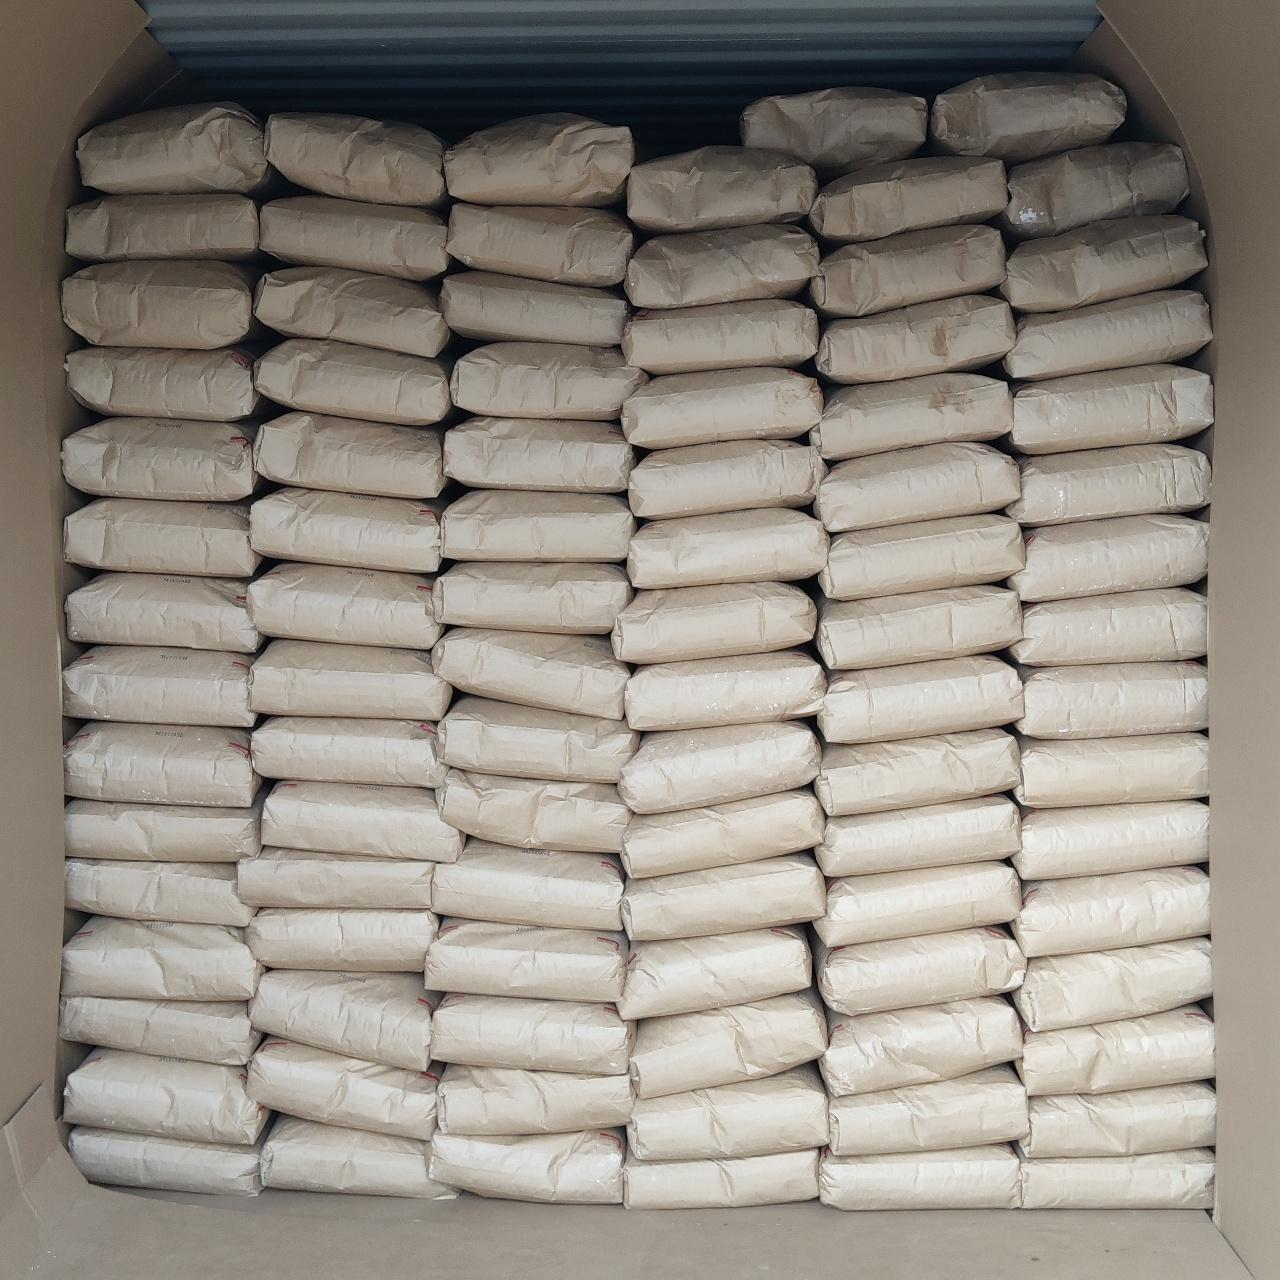sack: (629, 989, 826, 1098), (1000, 216, 1207, 312), (821, 998, 1021, 1095), (247, 1037, 437, 1139), (627, 1064, 828, 1160), (66, 1049, 268, 1144), (248, 969, 437, 1070), (617, 721, 821, 813), (815, 442, 1020, 533), (816, 927, 1026, 1016), (1012, 938, 1211, 1032), (998, 142, 1189, 239), (1005, 290, 1212, 379), (76, 102, 275, 195), (619, 789, 825, 878), (431, 627, 629, 719), (1010, 365, 1212, 454), (928, 73, 1126, 163), (617, 927, 811, 1019), (810, 225, 1005, 316), (812, 862, 1020, 947), (815, 295, 1014, 384), (828, 1065, 1027, 1155), (256, 266, 449, 358), (1016, 1006, 1214, 1095), (62, 260, 263, 348), (622, 853, 825, 940), (433, 837, 622, 930), (817, 656, 1022, 742), (815, 729, 1020, 815), (1012, 867, 1208, 956), (818, 515, 1024, 599), (445, 114, 635, 205), (425, 917, 628, 1002), (1009, 515, 1208, 601), (810, 374, 1012, 459), (256, 338, 451, 425), (809, 157, 1007, 243), (740, 87, 927, 177), (815, 586, 1021, 668), (440, 696, 640, 781), (253, 411, 445, 498), (247, 564, 442, 649), (266, 113, 443, 206), (815, 796, 1020, 877), (61, 917, 260, 1000), (64, 722, 260, 806), (430, 994, 634, 1075), (612, 583, 816, 663), (1006, 445, 1210, 526), (62, 418, 263, 501), (627, 147, 818, 232), (627, 508, 829, 588), (621, 367, 823, 448), (624, 224, 819, 307), (248, 640, 452, 720), (625, 651, 828, 730), (251, 488, 442, 572), (261, 1116, 457, 1198), (260, 196, 450, 280), (261, 782, 459, 862), (437, 770, 629, 852), (63, 646, 258, 727), (447, 204, 635, 287), (450, 341, 648, 420), (628, 440, 826, 518), (1012, 801, 1208, 879), (64, 498, 260, 577), (66, 573, 260, 652), (66, 346, 265, 421), (621, 299, 818, 374), (1019, 1083, 1216, 1158), (1010, 588, 1207, 663), (445, 416, 635, 493), (1017, 662, 1207, 740), (425, 1129, 624, 1201), (1014, 733, 1208, 806), (440, 271, 629, 345), (433, 563, 632, 633), (441, 490, 636, 561), (251, 717, 445, 788), (61, 999, 260, 1065), (66, 195, 260, 263), (68, 1126, 263, 1194), (438, 1065, 633, 1133), (66, 858, 256, 927), (624, 1143, 821, 1207), (821, 1145, 1019, 1208), (245, 908, 438, 972), (64, 799, 260, 862), (237, 846, 434, 907), (1017, 1150, 1214, 1207)
